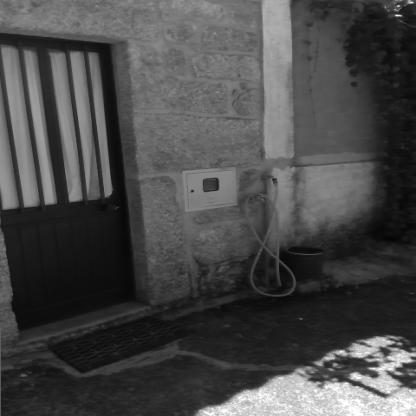closed: (0, 25, 140, 337)
